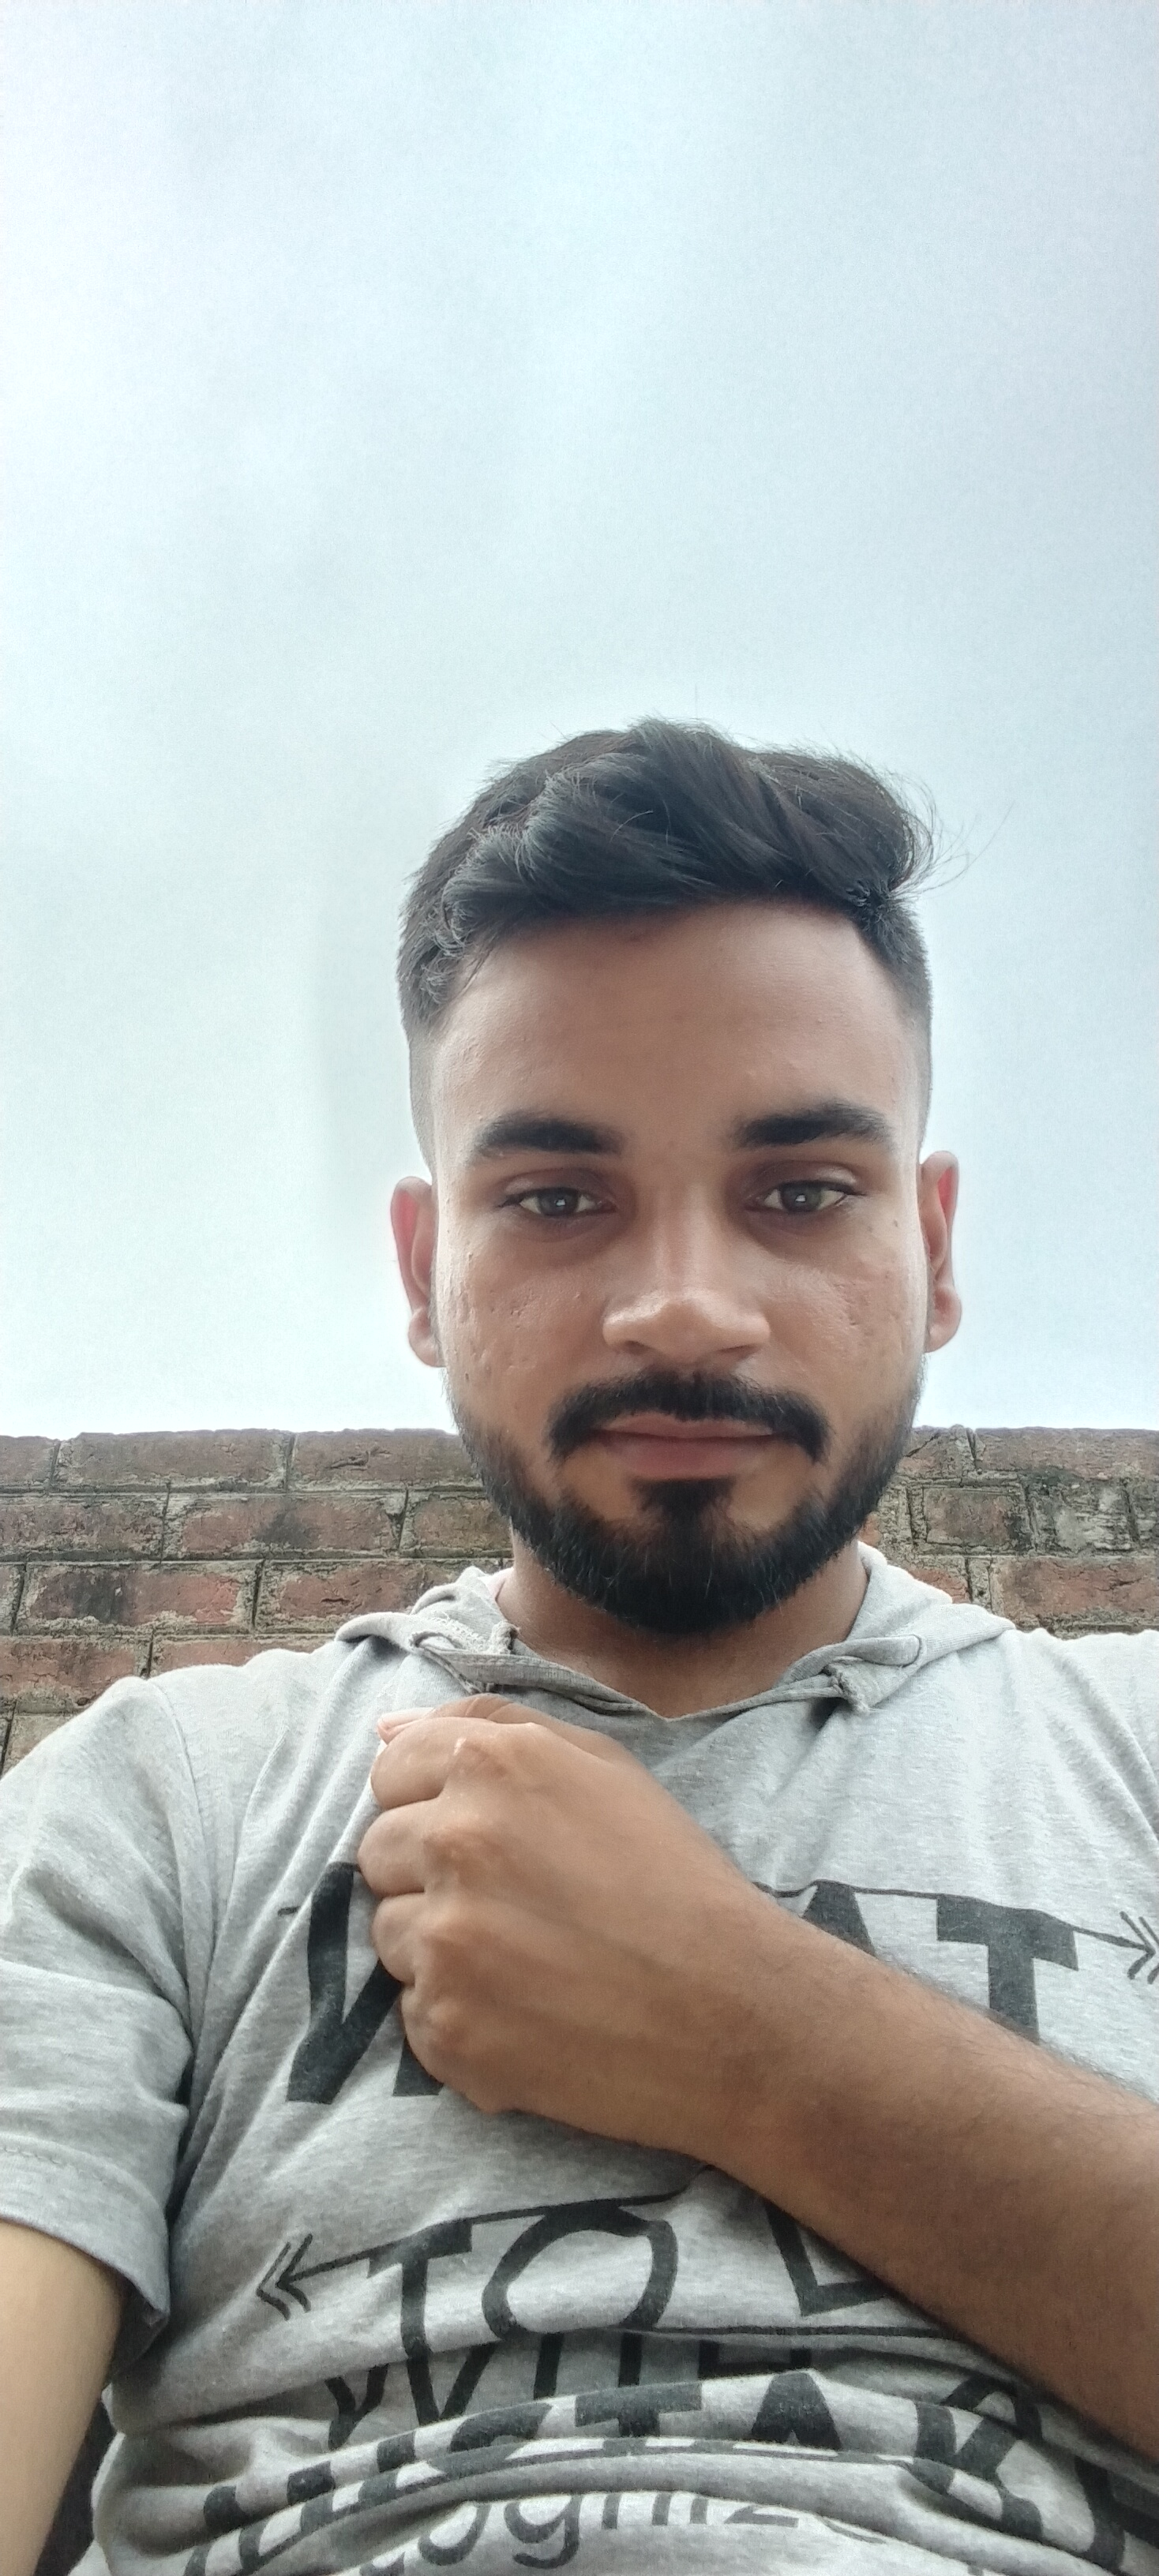Sorry: (349, 1681, 830, 2173)
